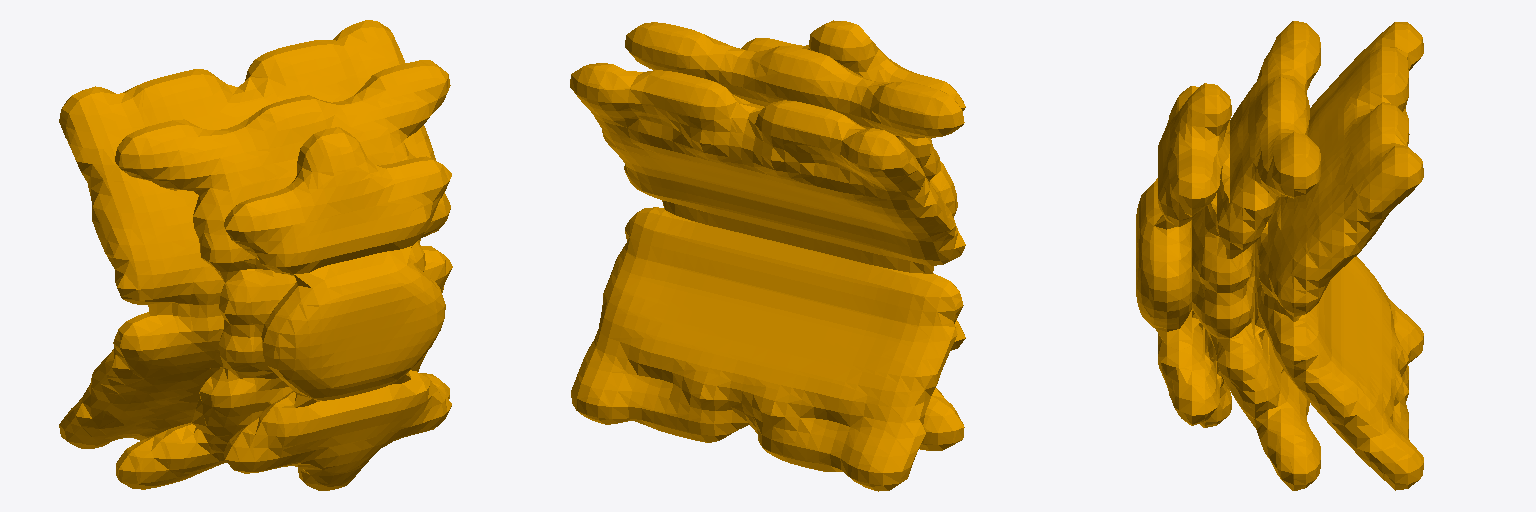
URDF robot description (N18_2):
<?xml version="1.0"?>
<robot name="N18_2">
  <link name="base_link">
    <visual>
      <geometry>
        <mesh filename="../../../../meshes/egad/train/N18_2.obj" />
      </geometry>
    </visual>
  </link>
</robot>

--- What the picture shows (computed from the rendered views, not written in the file) ---
3 views of the same robot in one strip: view 1: azimuth 30°, elevation 25°; view 2: azimuth 150°, elevation 25°; view 3: azimuth 270°, elevation 25° (orthographic).
Robot: N18_2 — 1 links, 0 joints (none); root link base_link; default pose: all joints at 0.
Links seen in each view (by area): view 1: base_link; view 2: base_link; view 3: base_link.
Boxes of the visible links, bbox=[...] form: base_link: bbox=[59, 20, 452, 490]; base_link: bbox=[570, 20, 965, 491]; base_link: bbox=[1136, 21, 1423, 490].
Size in the robot's own frame: 0.0736 by 0.0579 by 0.075 metres.
Meshes: 1 distinct files referenced, 1 mesh visuals loaded (1 OBJ).